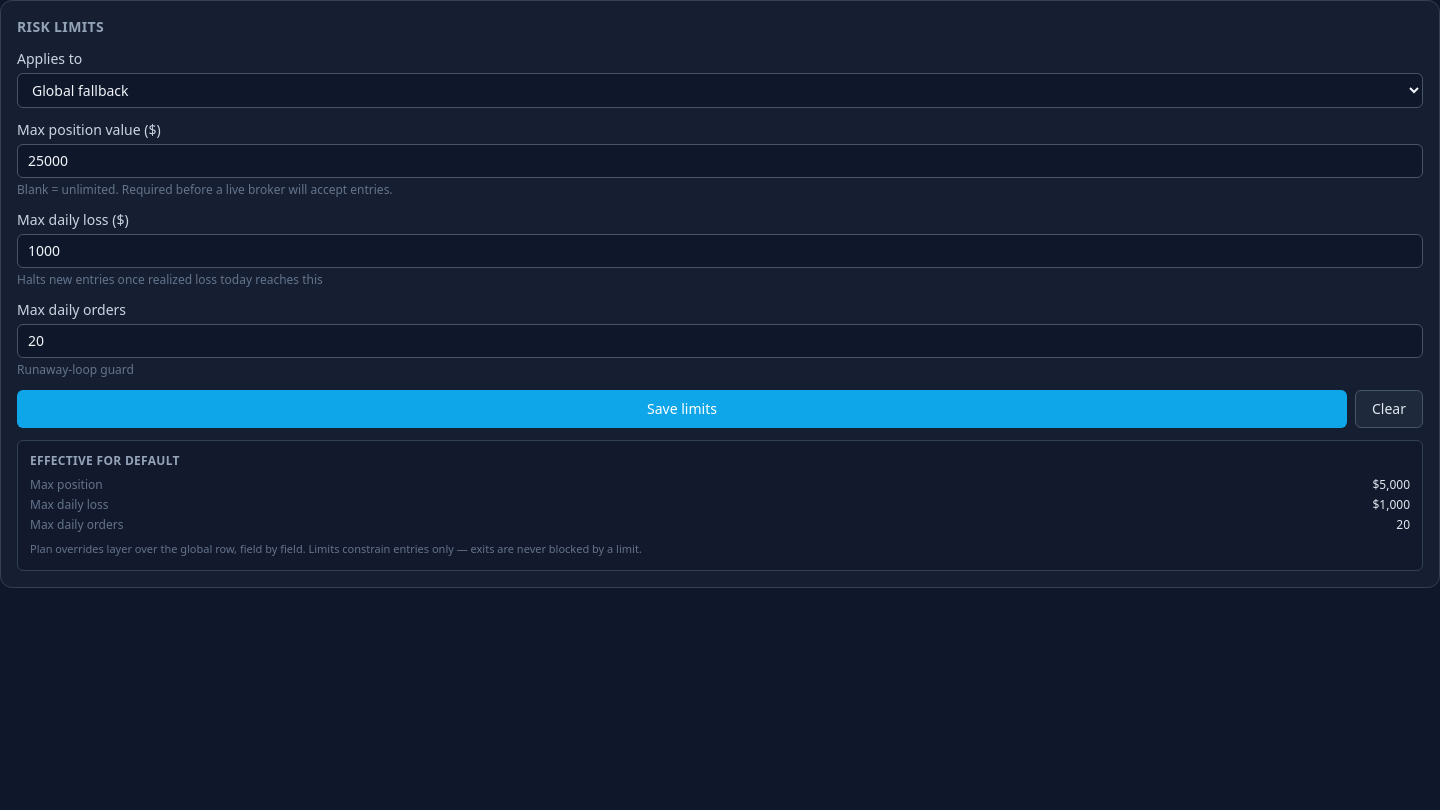
Test: RiskLimitsForm › re-seeds from the plan row when the scope switches
Select "Plan: default" in the dropdown labelled "Applies to": (720, 90) [17,73,1423,108]
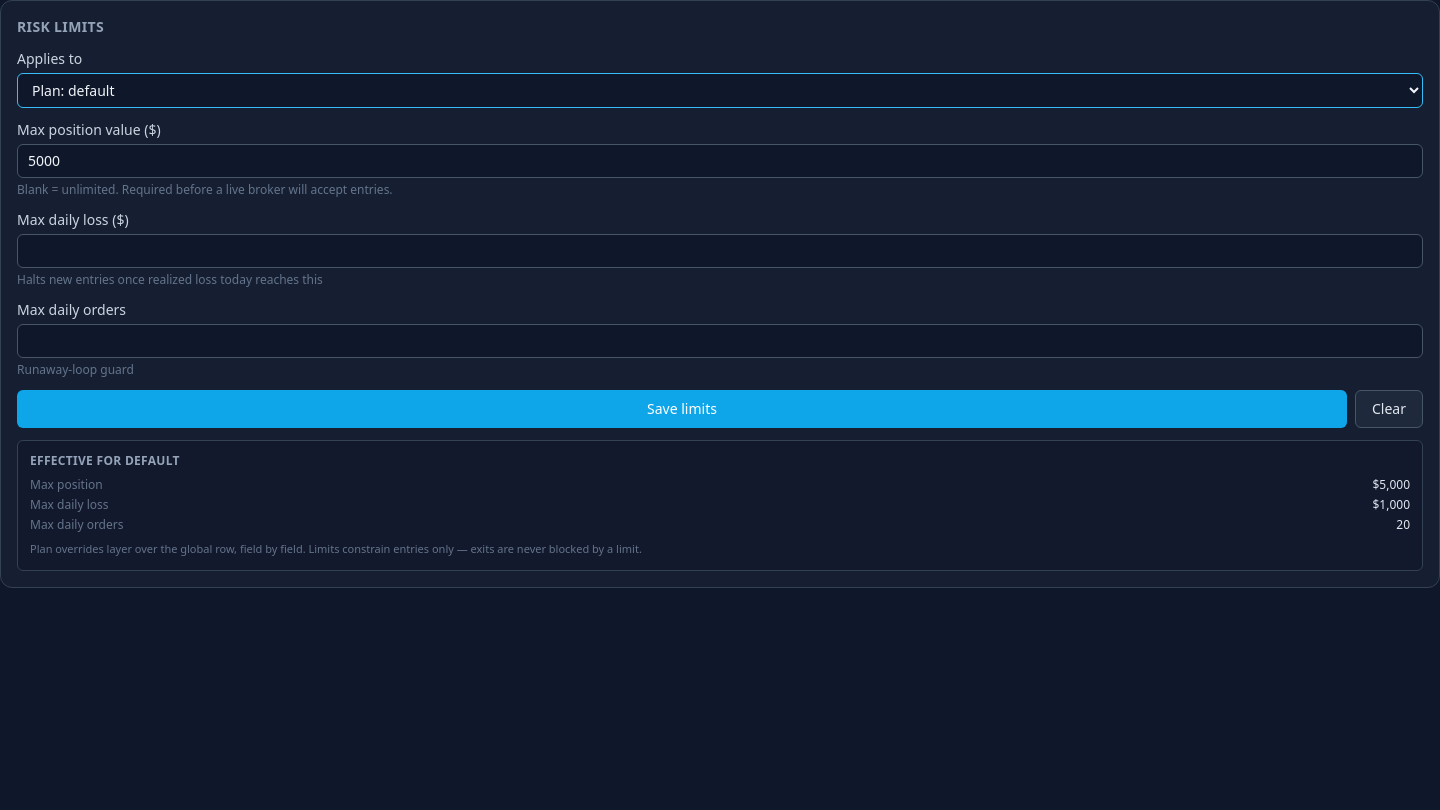
Expected: the number field labelled "Max position value" holds "5000", [17,144,1423,178]
Expected: the number field labelled "Max daily loss" is not empty, [17,234,1423,268]
